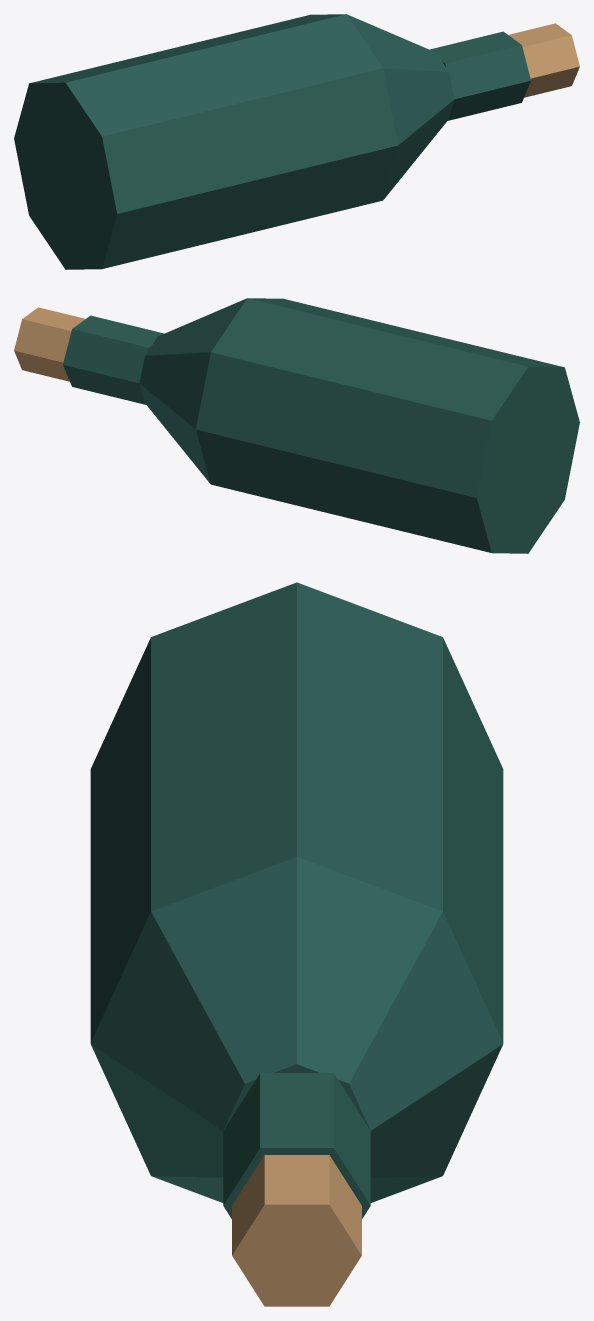
Rendered from Message_Bottle.glb.
3 renders of one model, top to bottom at view 1: azimuth 30°, elevation 25°; view 2: azimuth 150°, elevation 25°; view 3: azimuth 270°, elevation 25°, orthographic. The views are drawn at different scales.
Parts seen in each view (by area): view 1: Message_Bottle; view 2: Message_Bottle; view 3: Message_Bottle.
Boxes of the visible parts, box(x1,y1,x2,y2) form: Message_Bottle: box(14, 14, 579, 269); Message_Bottle: box(14, 298, 579, 553); Message_Bottle: box(90, 582, 503, 1306).
Size of the model in its own units: 0.39 by 0.14 by 0.14.
1 material, 1 textured.
